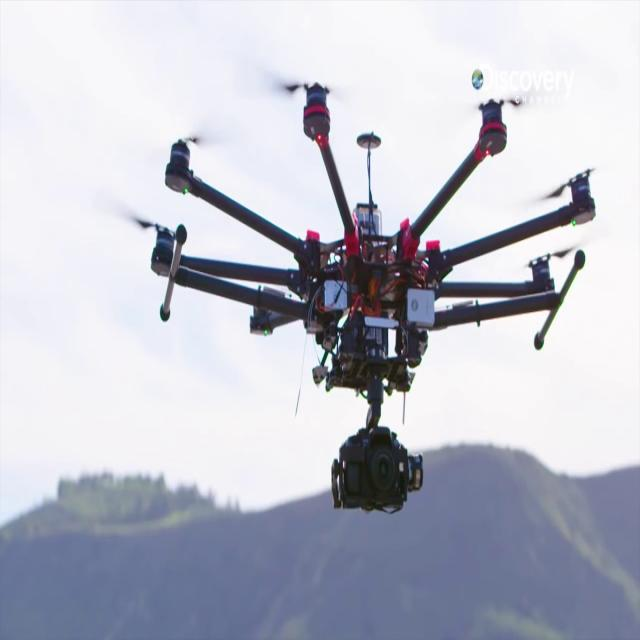drone: (132, 60, 610, 503)
